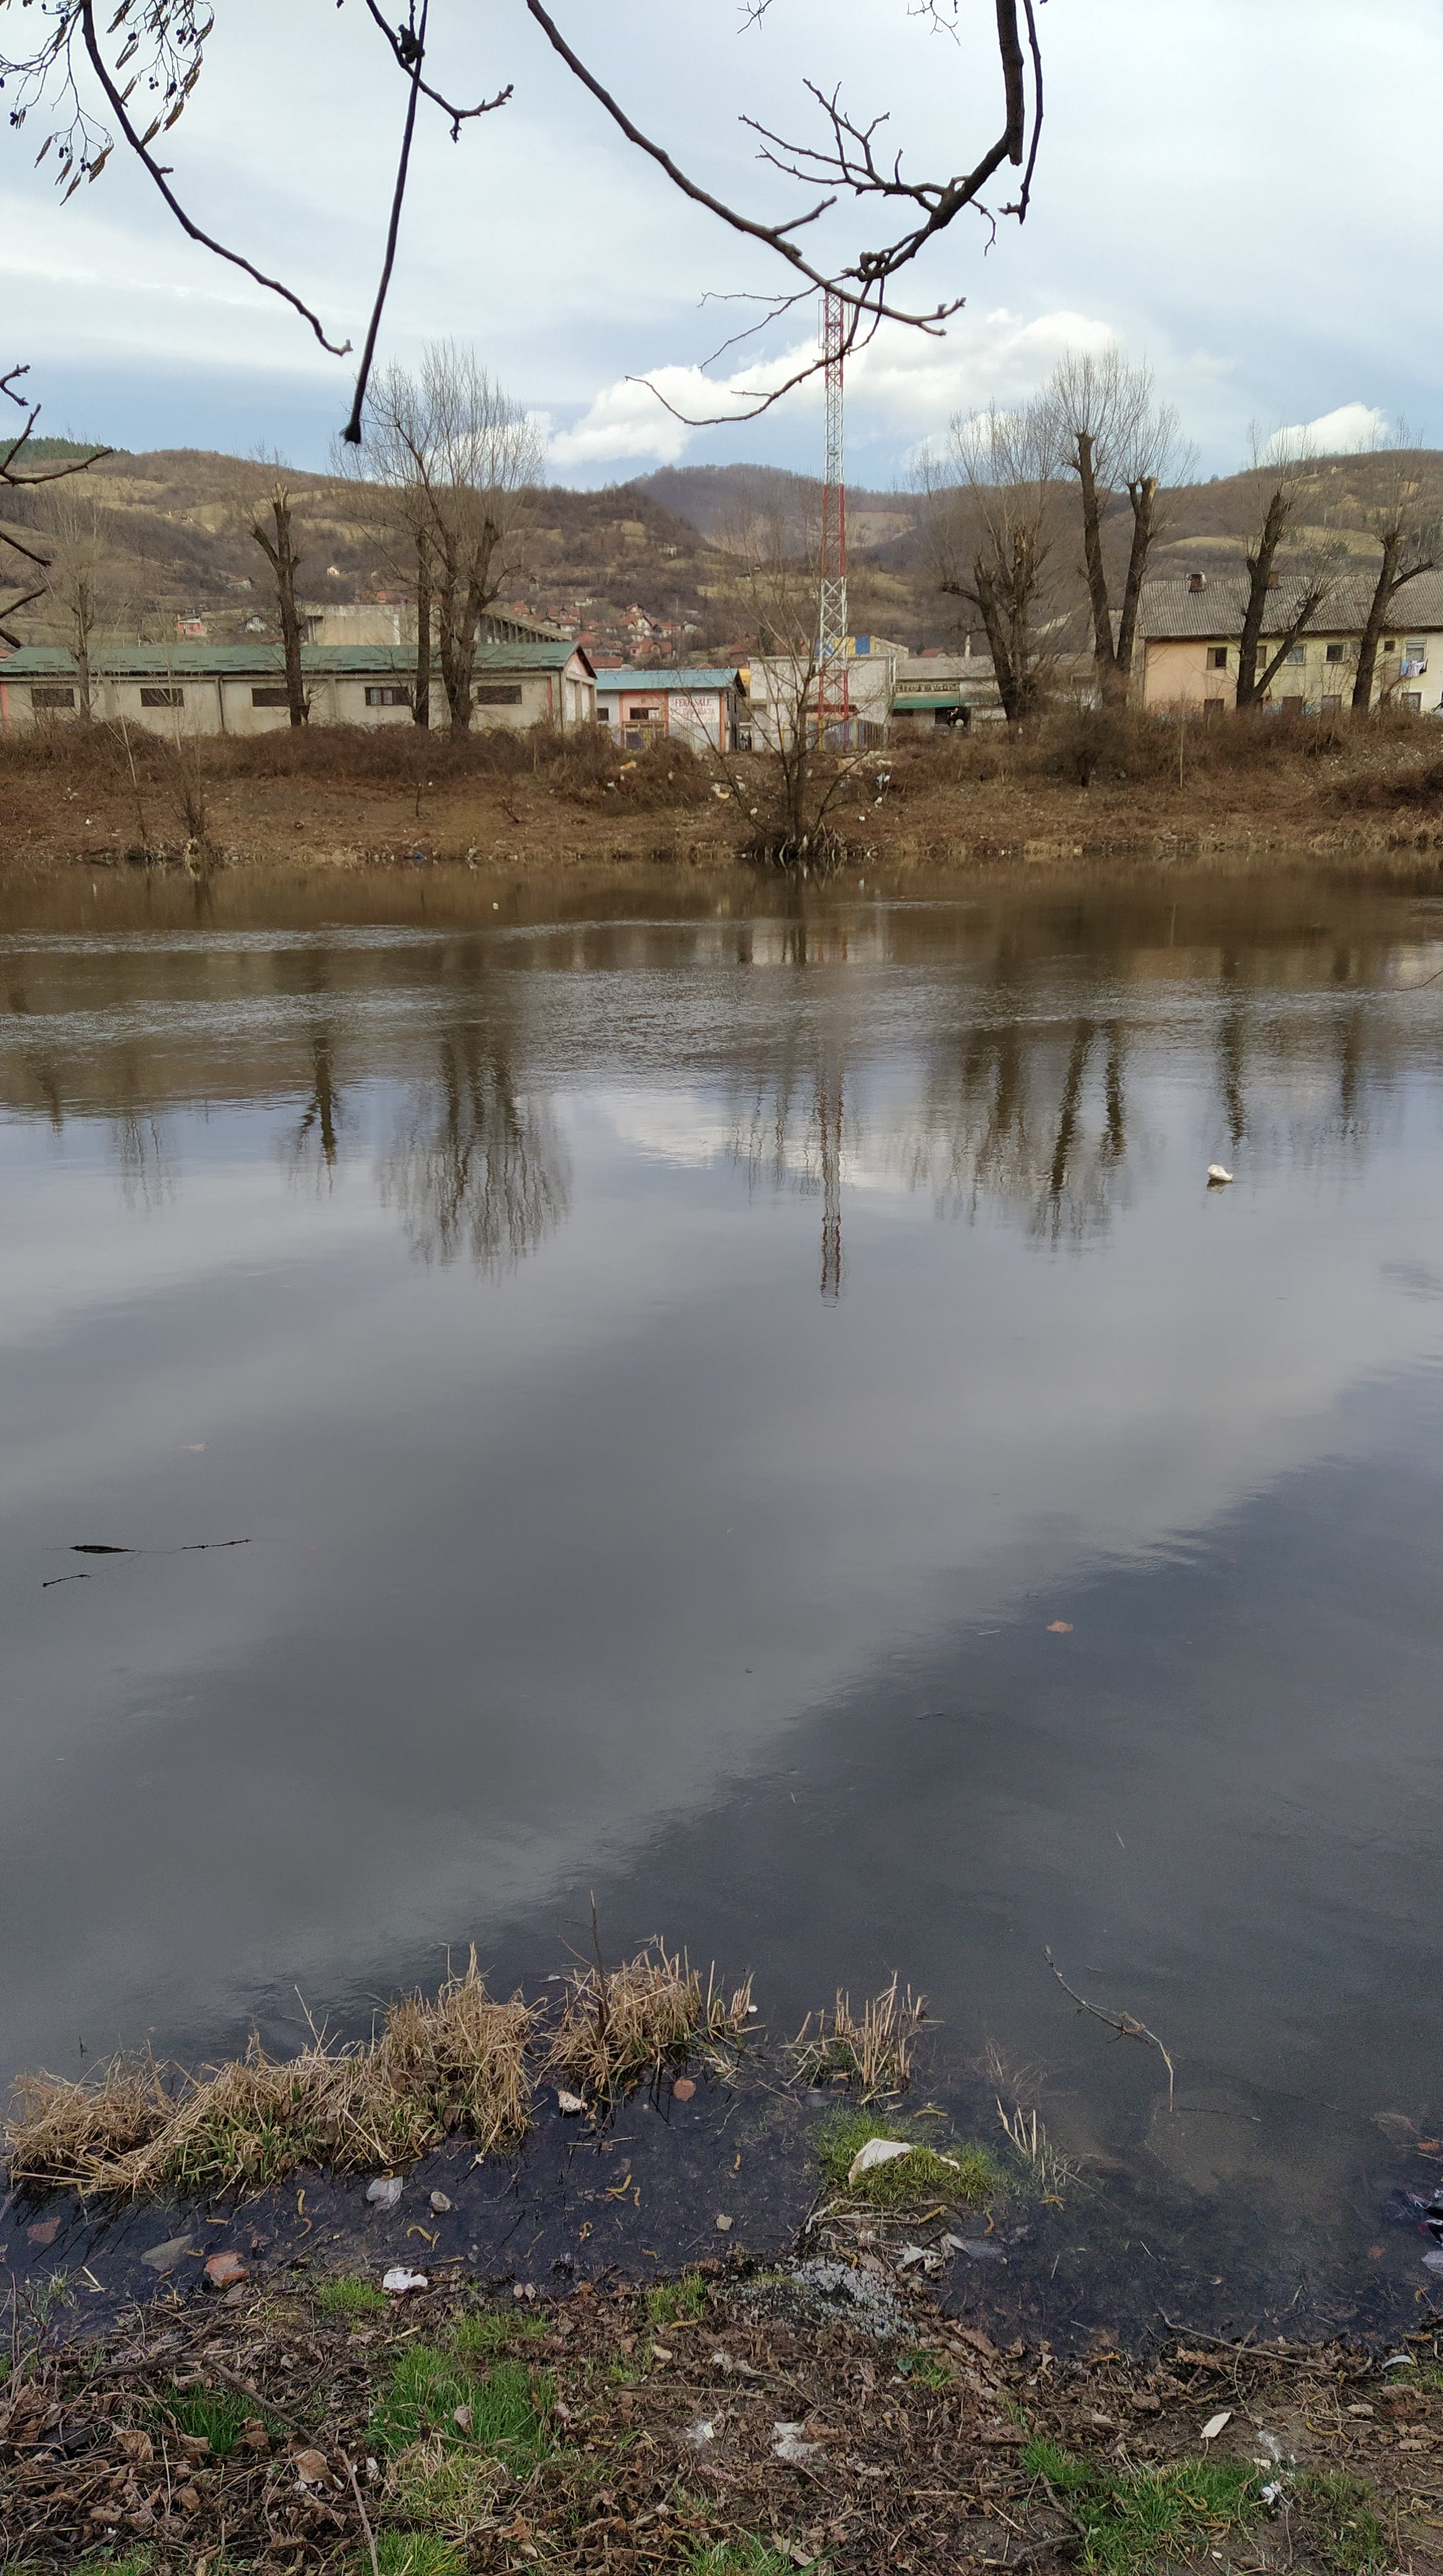Plastic Bottle: (1208, 1164, 1234, 1182), (494, 902, 498, 908)
